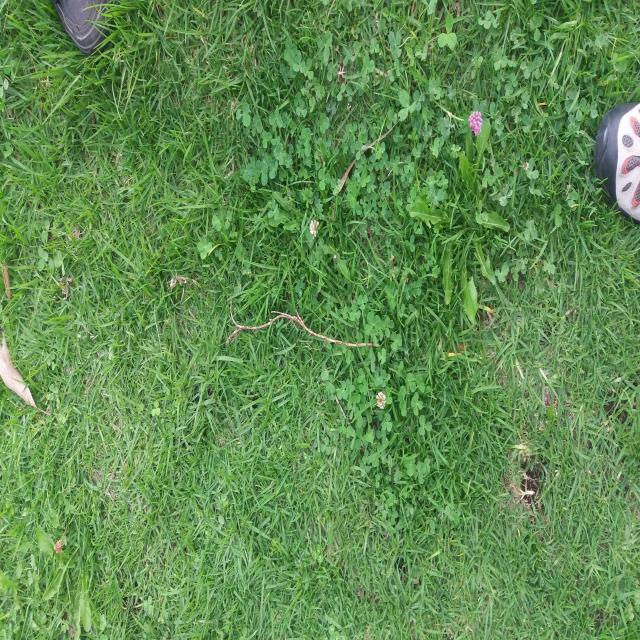Four Leaf Clover: (197, 236, 212, 260), (411, 391, 423, 416), (305, 219, 318, 242), (274, 142, 286, 165), (417, 461, 426, 484), (405, 457, 415, 476)
